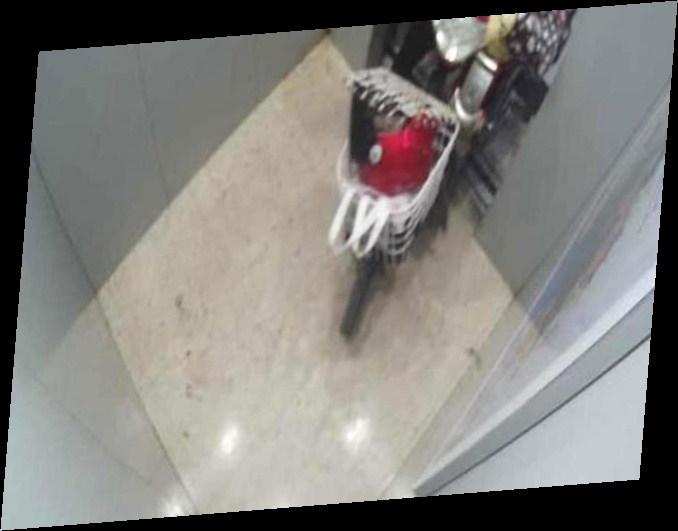electromobile: (254, 33, 524, 341)
